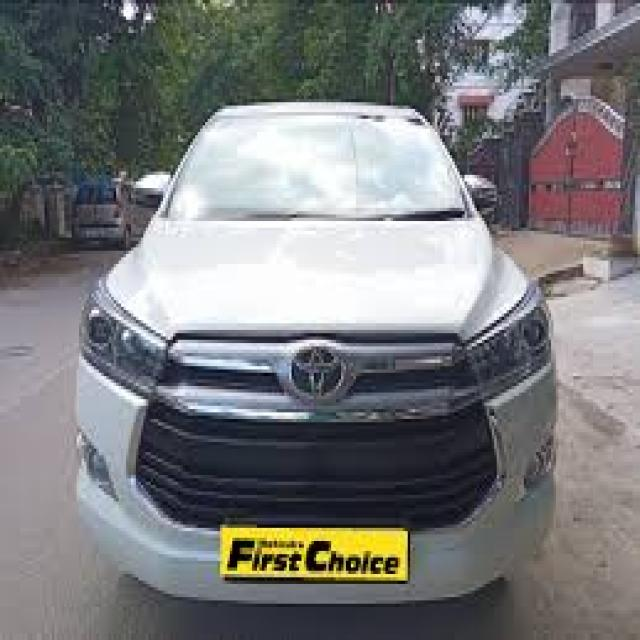light_vehicle: (76, 102, 558, 605)
